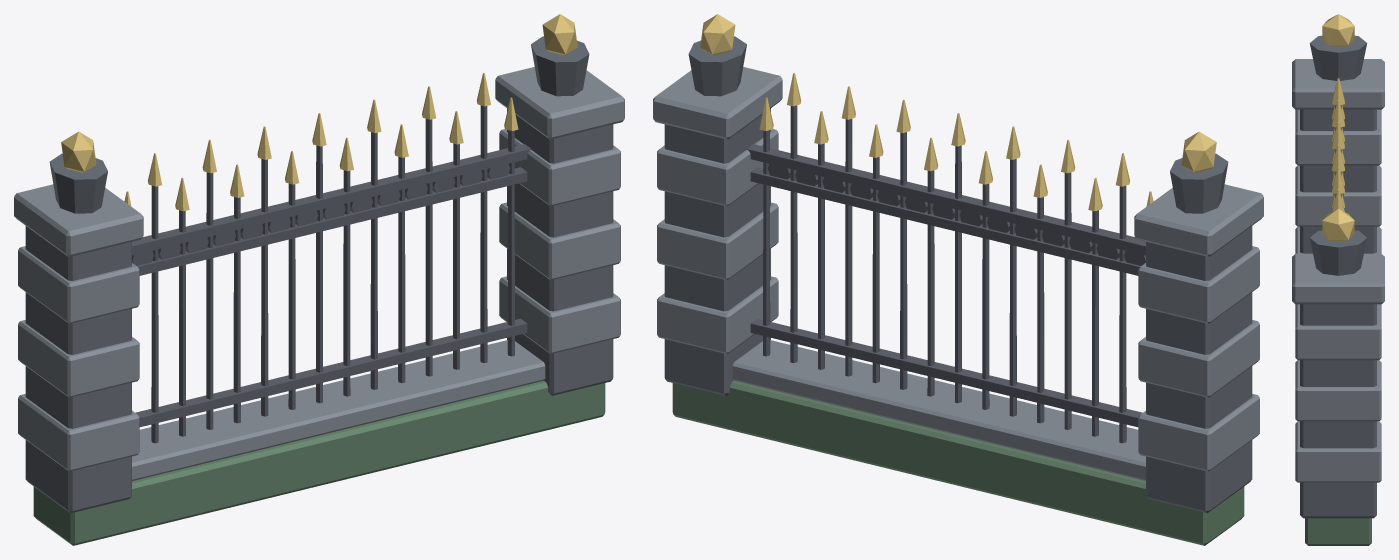
File: outdoor_fence.glb
3 renders of one model, left to right at view 1: azimuth 30°, elevation 25°; view 2: azimuth 150°, elevation 25°; view 3: azimuth 270°, elevation 25°, orthographic. The views are drawn at different scales.
Parts seen in each view (by area): view 1: Outdoor_Fence; view 2: Outdoor_Fence; view 3: Outdoor_Fence.
Part boxes in pixels (box(x1,y1,x2,y2)): Outdoor_Fence: box(14, 14, 624, 545); Outdoor_Fence: box(653, 14, 1263, 545); Outdoor_Fence: box(1292, 14, 1384, 545).
Size of the model in its own units: 4.18 by 2.82 by 0.725.
